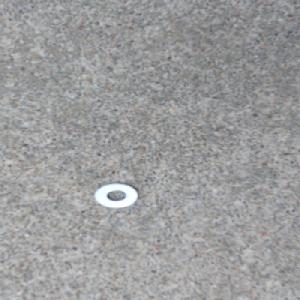Washer: (90, 180, 142, 210)
